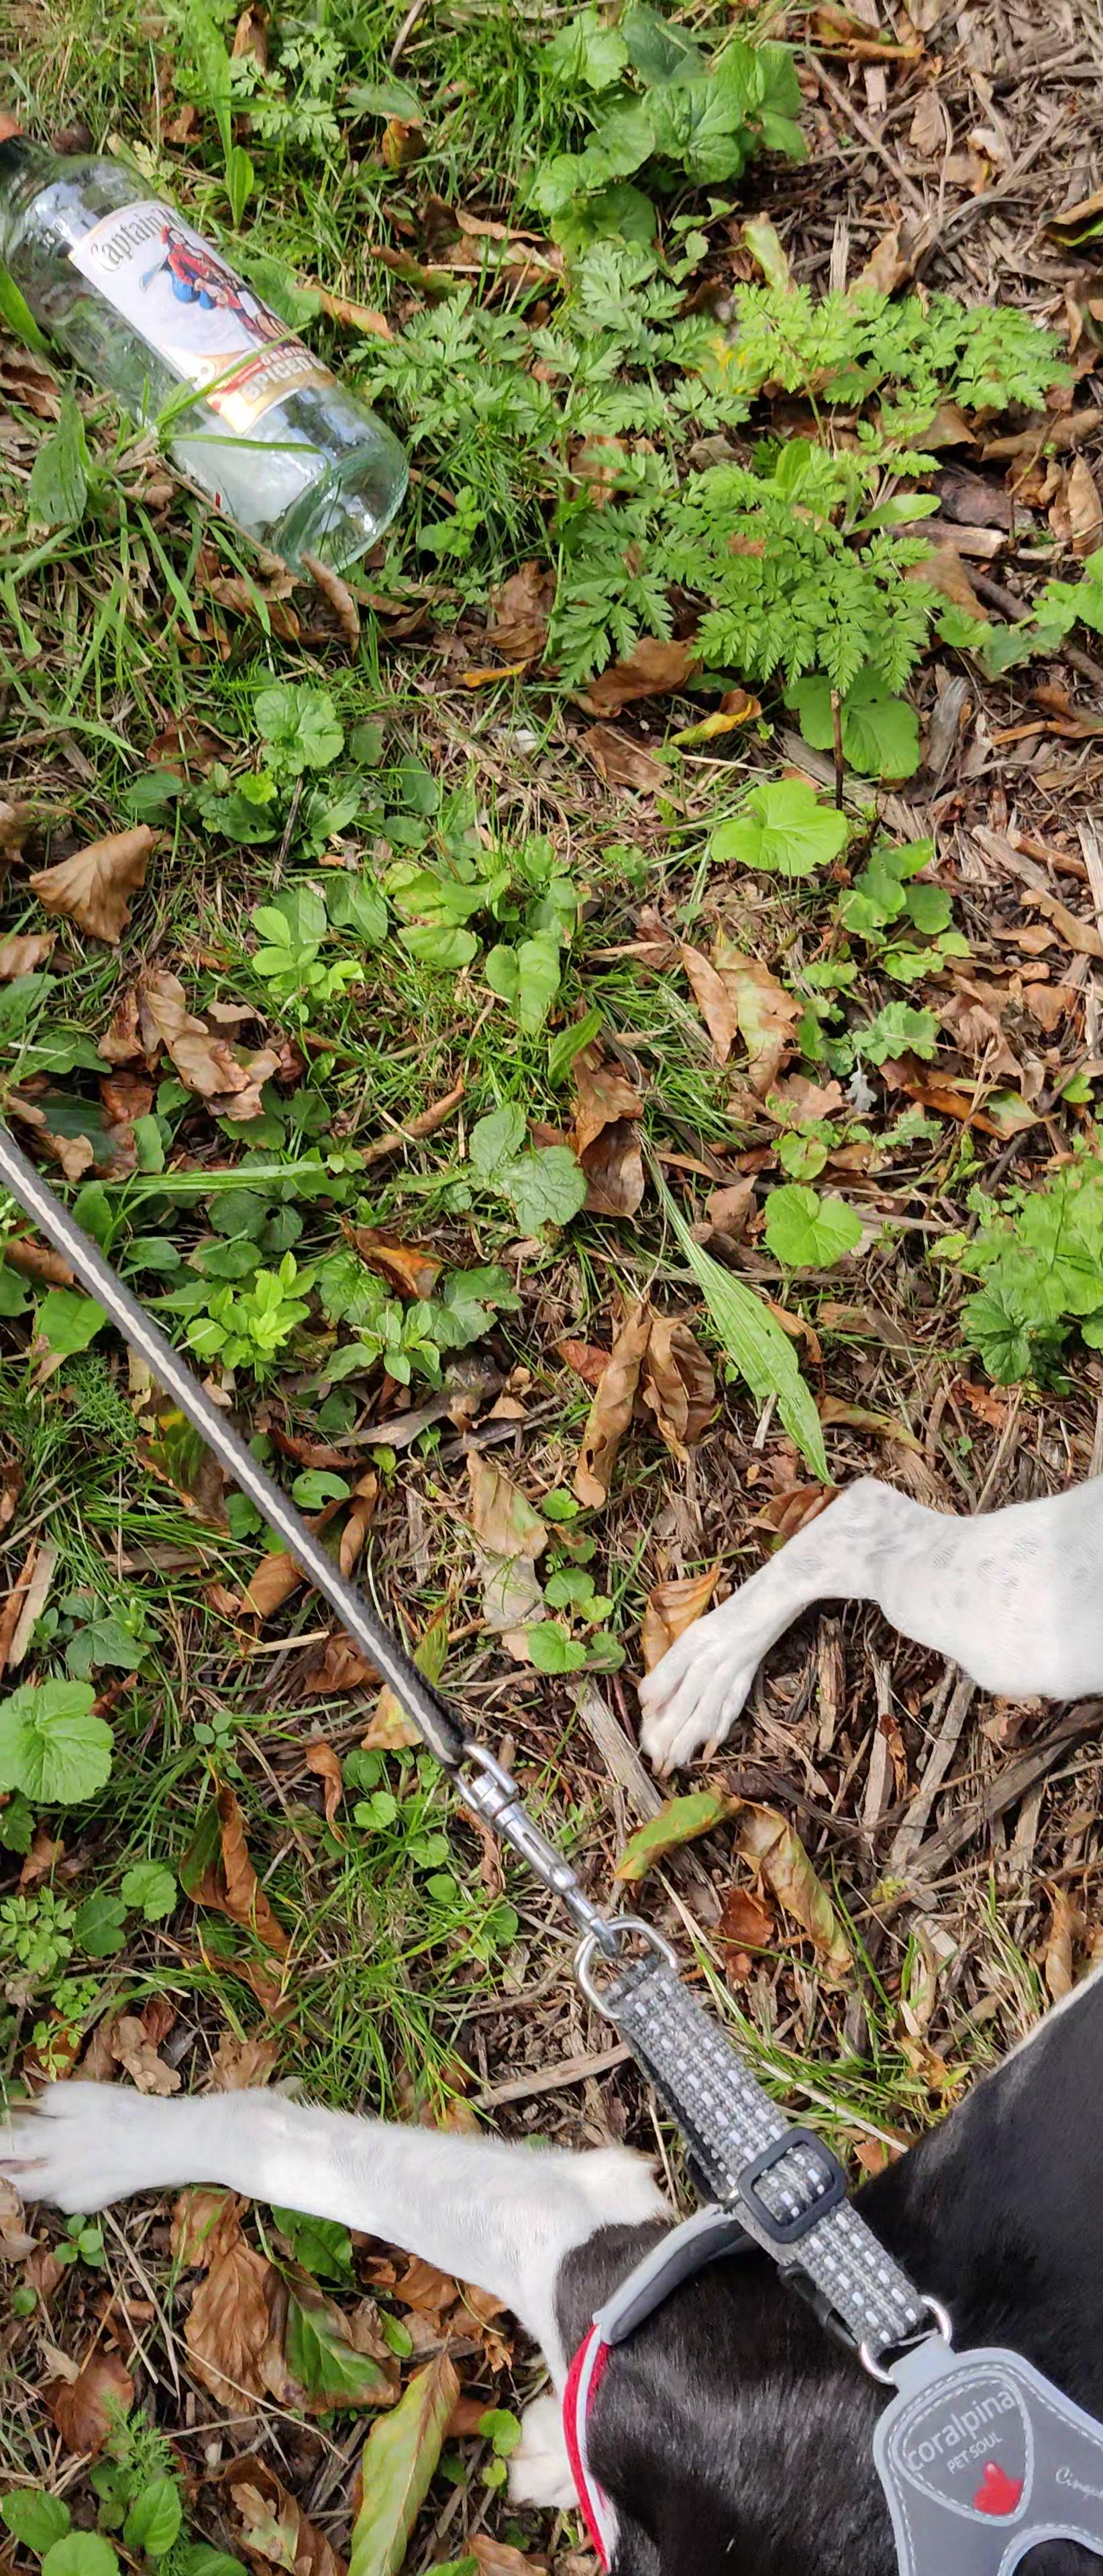Dog: (0, 1431, 1103, 2576)
